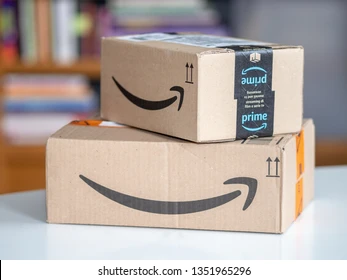package: (45, 117, 314, 234), (97, 27, 305, 145)
